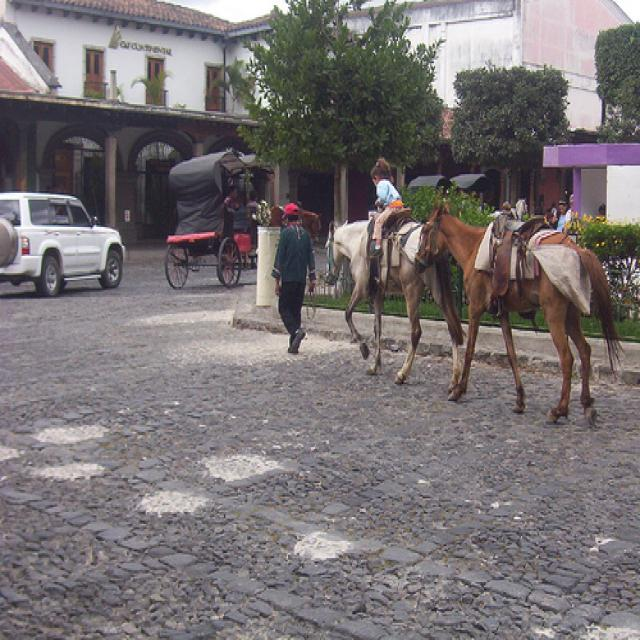light_vehicle: (0, 190, 128, 300)
